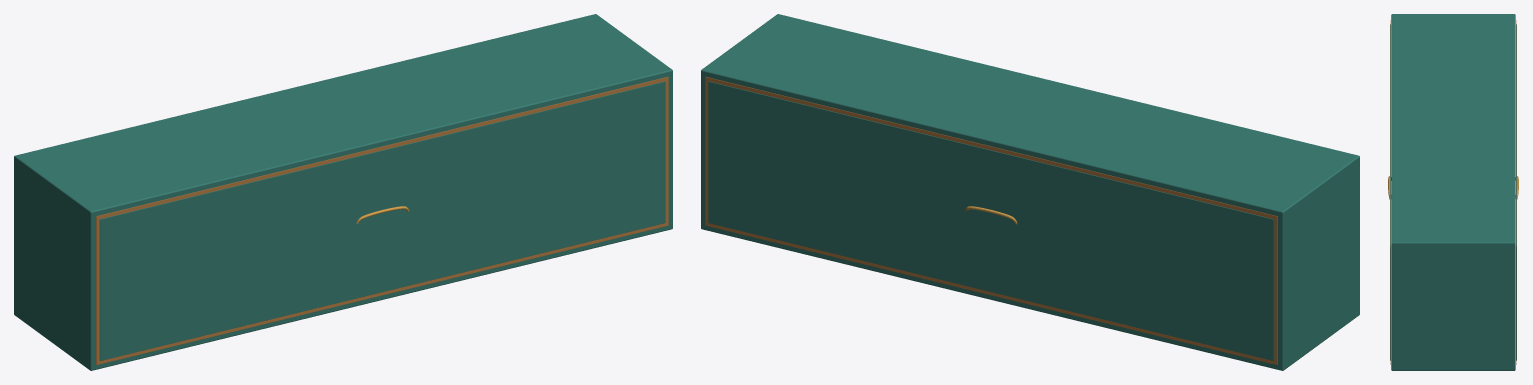
The model's file is drawer-two-base.glb.
3 views of the same model, side by side, from view 1: azimuth 30°, elevation 25°; view 2: azimuth 150°, elevation 25°; view 3: azimuth 270°, elevation 25° (orthographic). The views are drawn at different scales.
Visible parts, largest first — view 1: teal, wood; view 2: teal, wood; view 3: teal, wood.
Part boxes in pixels (x1,y1,x2,y2): teal: [14, 14, 672, 370]; wood: [96, 76, 668, 365]; teal: [701, 14, 1359, 370]; wood: [705, 76, 1277, 365]; teal: [1390, 14, 1516, 370]; wood: [1390, 20, 1516, 364].
Size of the model in its own units: 34 by 8.9 by 8.21.
